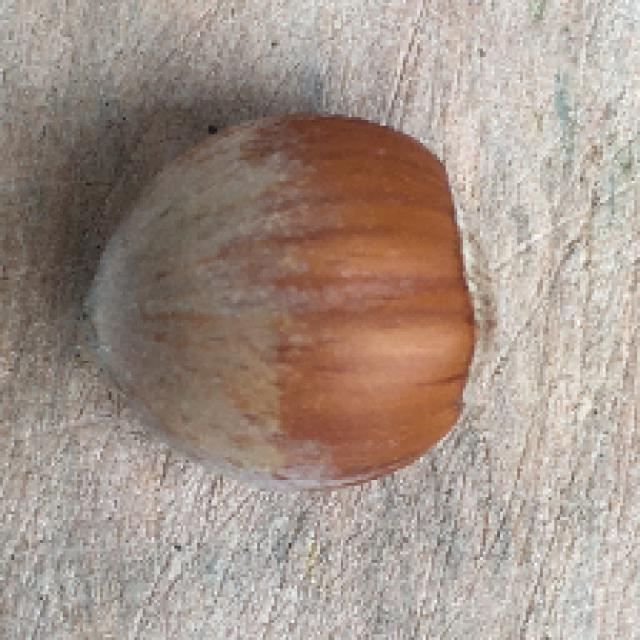qualityHazelnut: (84, 101, 484, 498)
